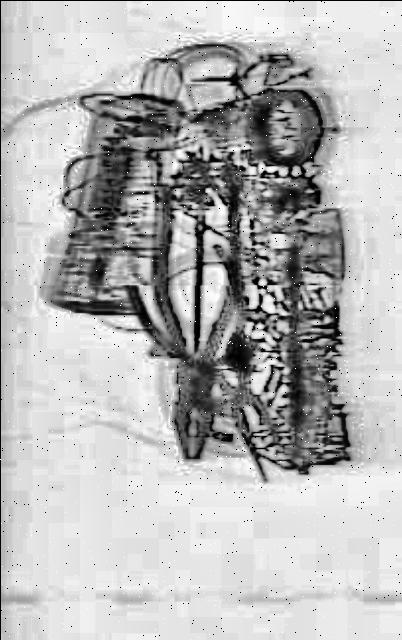Pliers: (120, 204, 309, 514), (144, 156, 242, 460)
